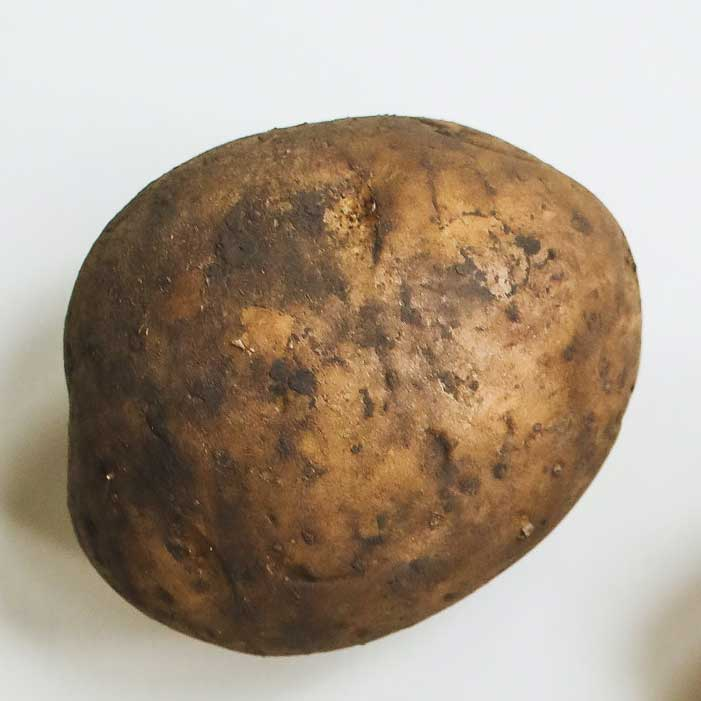Kartoffel: (64, 115, 642, 657)
